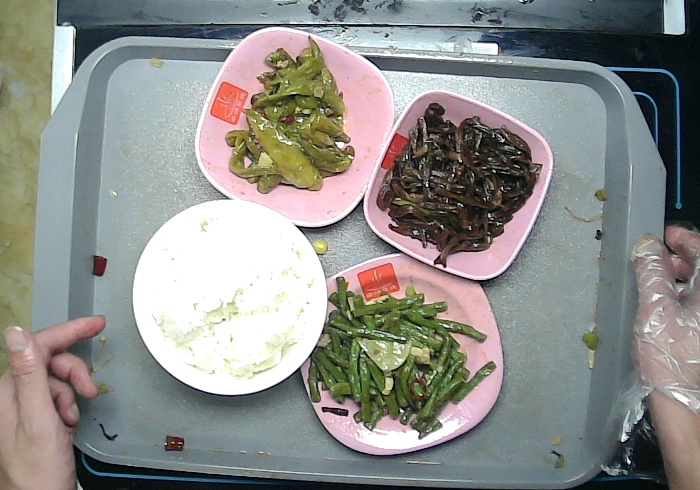SHKJ-Fan_Wan: (132, 196, 330, 400)
SHKJ-Fen_Se_Cai_Die: (191, 23, 396, 230)
SHKJ-Fen_Se_Si_Fang_Cai_Die: (293, 249, 507, 460)
SHKJ-Fen_Se_Xiao_Fang_Die: (362, 85, 557, 284)
